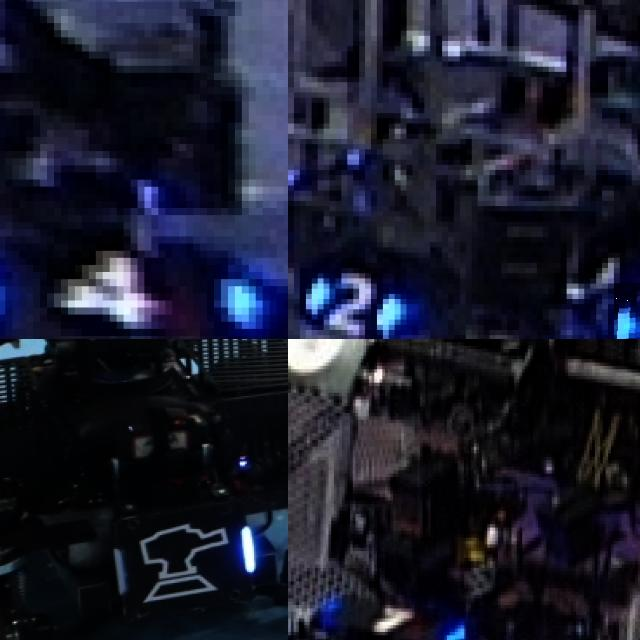B1: (317, 591, 468, 640)
B2: (300, 263, 406, 335), (614, 283, 640, 339)
Bs: (108, 514, 259, 612)
